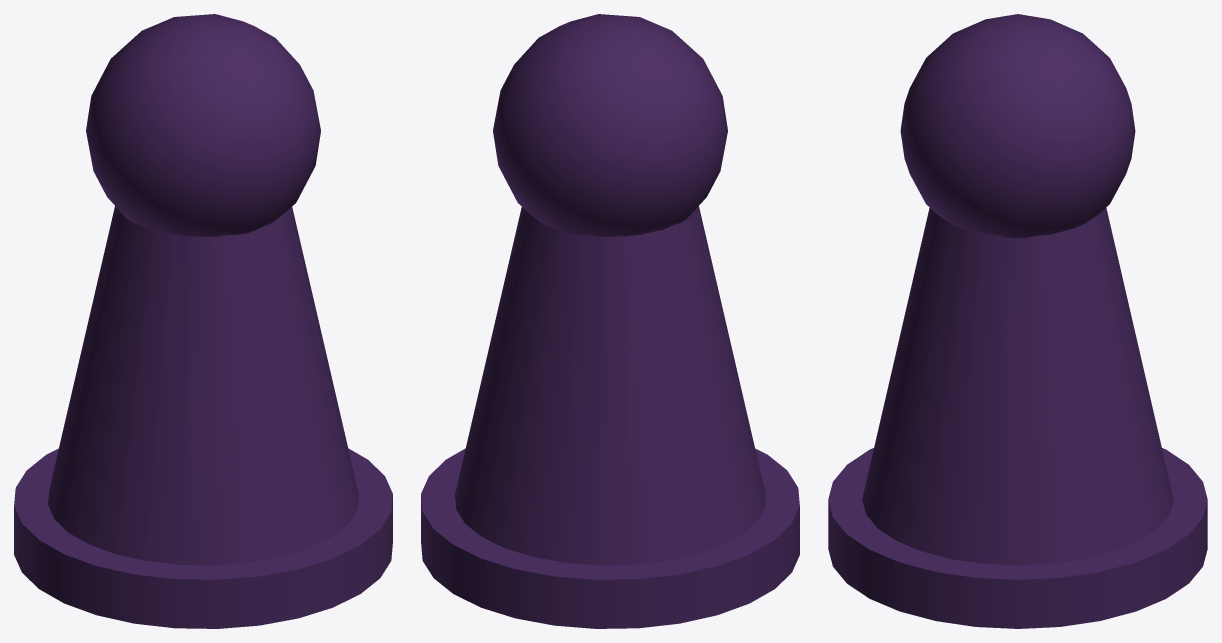
File: ruhm_marker_indigo.glb
3 views of the same model, side by side, from view 1: azimuth 30°, elevation 25°; view 2: azimuth 150°, elevation 25°; view 3: azimuth 270°, elevation 25° (orthographic).
Visible parts, largest first — view 1: ruhm_marker_indigo; view 2: ruhm_marker_indigo; view 3: ruhm_marker_indigo.
Boxes of the visible parts, x1=… form: ruhm_marker_indigo: x1=14, y1=14, x2=392, y2=628; ruhm_marker_indigo: x1=421, y1=14, x2=799, y2=628; ruhm_marker_indigo: x1=828, y1=14, x2=1207, y2=628.
Size of the model in its own units: 8.4 by 12.8 by 8.4.
